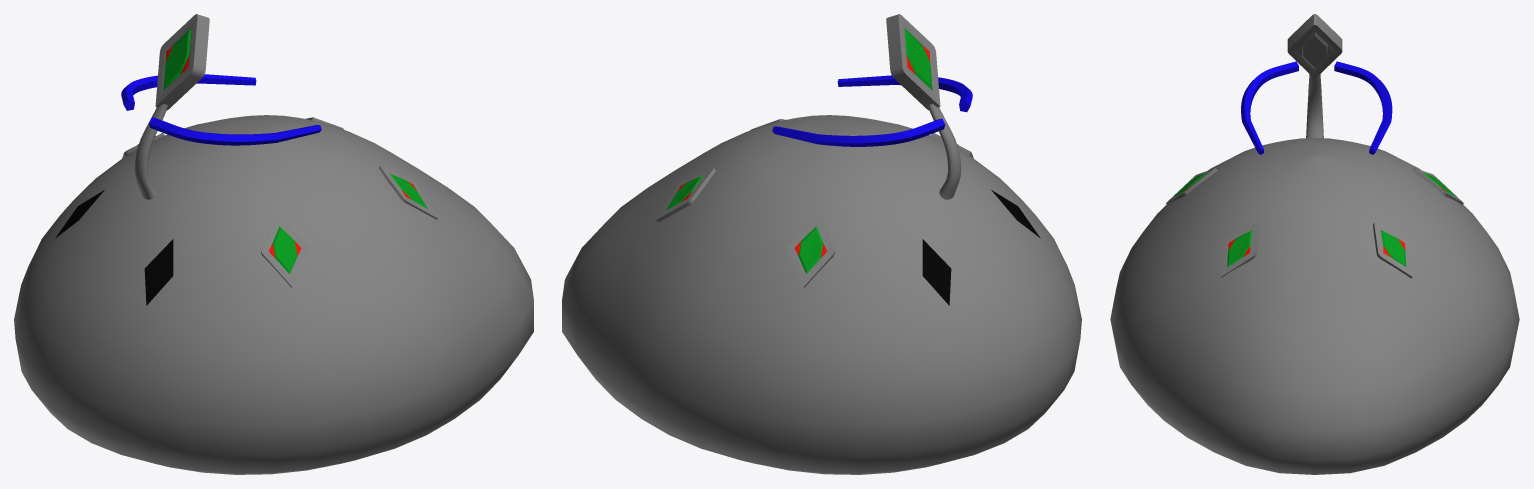
The model's file is маг2.FBX.
3 renders of one model, left to right at view 1: azimuth 30°, elevation 25°; view 2: azimuth 150°, elevation 25°; view 3: azimuth 270°, elevation 25°, orthographic. The views are drawn at different scales.
Parts seen in each view (by area): view 1: Sphere008; view 2: Sphere008; view 3: Sphere008.
Part boxes in pixels (x1,y1,x2,y2): Sphere008: (14, 14, 533, 474); Sphere008: (562, 14, 1081, 474); Sphere008: (1110, 14, 1519, 474).
Size of the model in its own units: 101 by 83.87 by 87.49.
